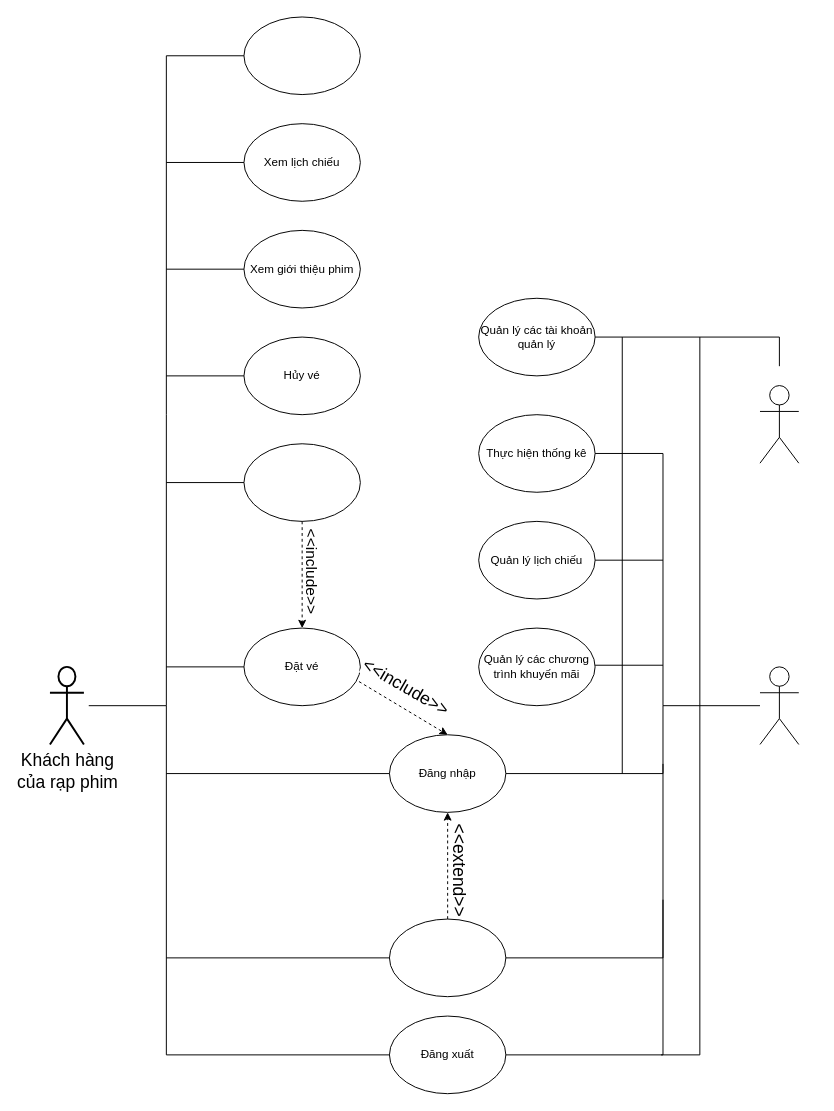
Some shapes in this 834 by 1111 pixel diagram are drawn without their labels. Each missing label, with the box of its shape:
Admin: (759, 385, 799, 463)
Quản lý rạp phim: (759, 666, 799, 744)
Thanh toán: (243, 443, 360, 521)
Xem khuyến mãi: (243, 16, 360, 95)
Đăng ký: (388, 918, 506, 997)
